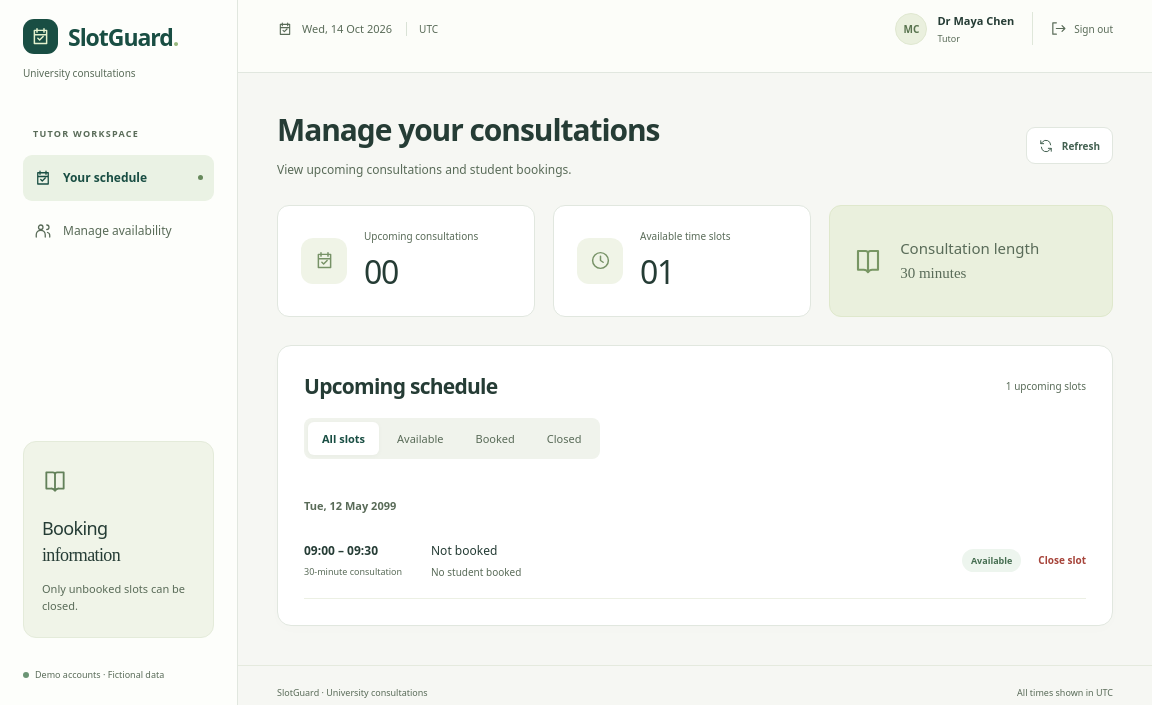
Tutor availability management › closes only an unbooked slot and refreshes its status
Expected: the navigation bar named "Main navigation" is shown, [23,154,214,254]
Click the button "Close slot ": (1062, 560) [1038,543,1086,577]
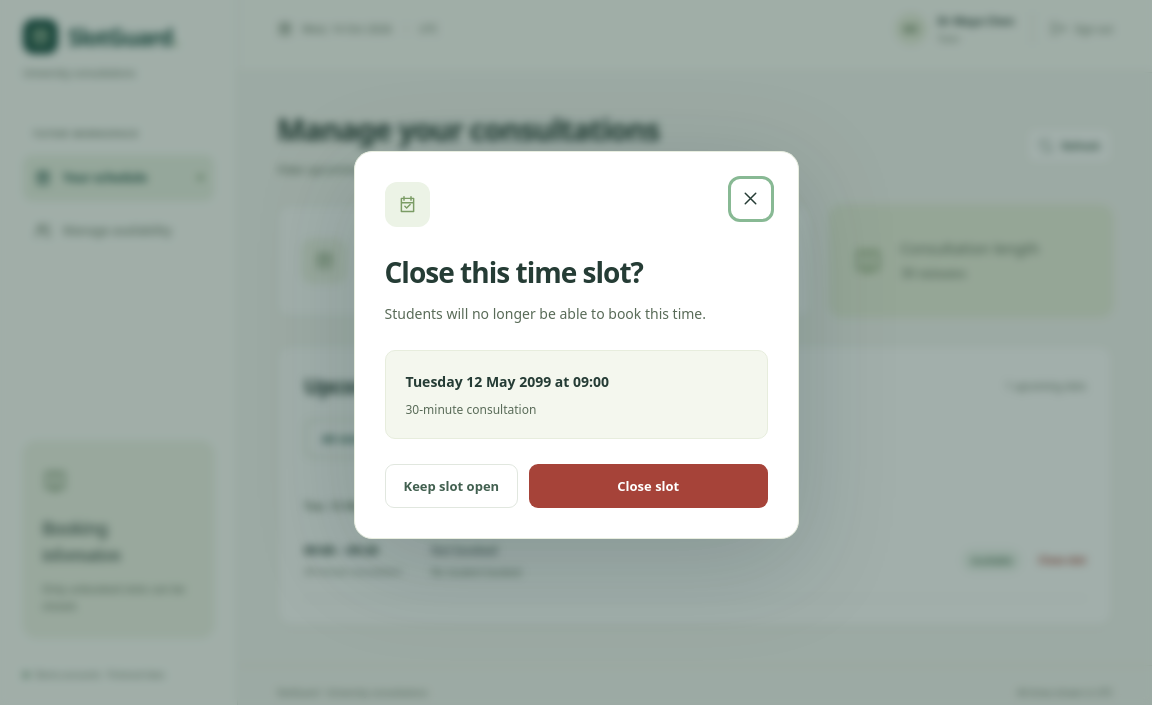
Now the button "Keep slot open" is shown, box [384,464,518,508]
Click the button "Close slot": (648, 486) [529,464,768,508]
(page scrolled)
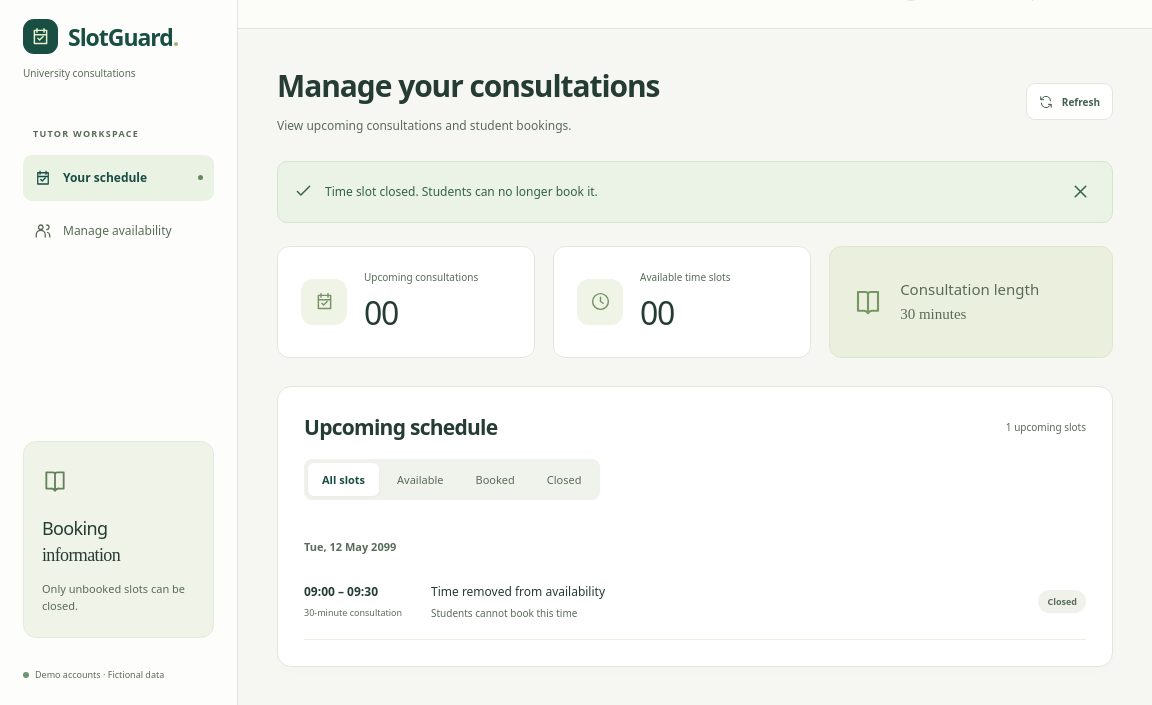
Now the text "Time slot closed. Students can no longer book it." is shown, box [325,182,598,201]
Now the text "Time removed from availability" is shown, box [431,583,605,600]
Now the button "Close slot " is gone
